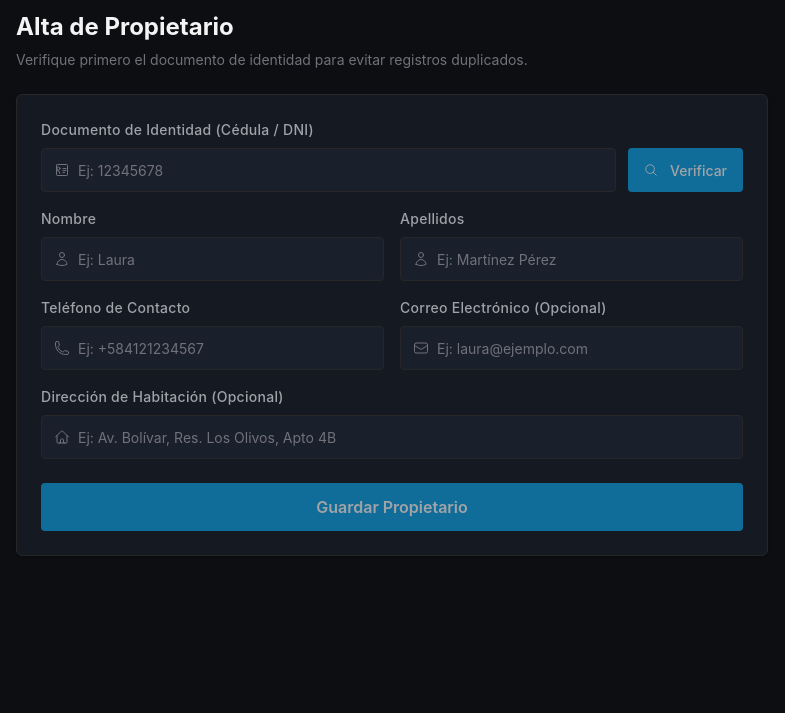
Test case: UI Integration: OwnerRegisterScreen (RF-68, RF-60, RNF-3) › debe alertar y bloquear registro duplicado si lookup responde exists true (sin filtrar datos personales)
Note: Ingresar documento
Type "12345678" into the field with placeholder "Ej: 12345678" at (341, 170), box [78,149,603,191]
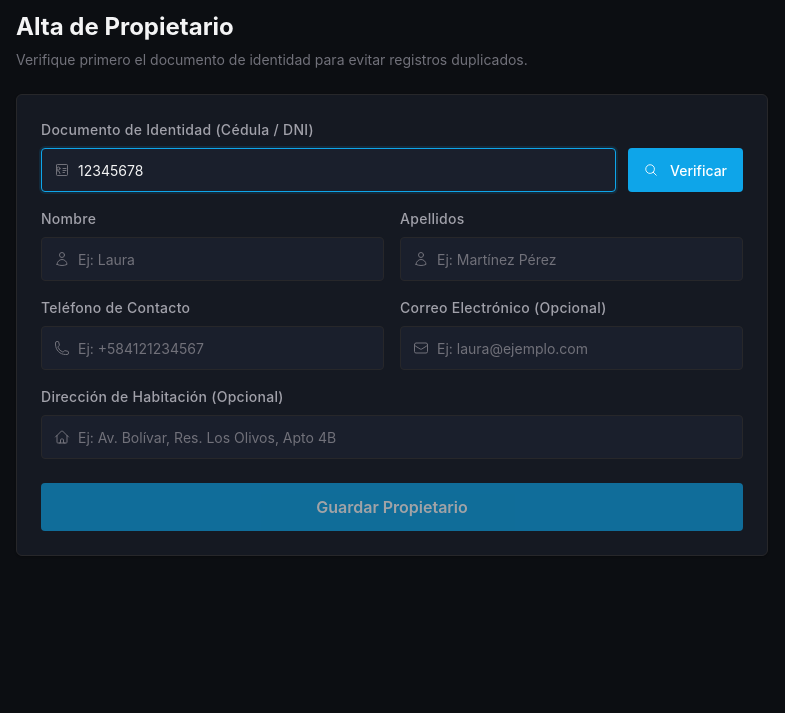
Note: Clic en botón Verificar
Click the button "Verificar" at (686, 170), box [628,148,743,192]
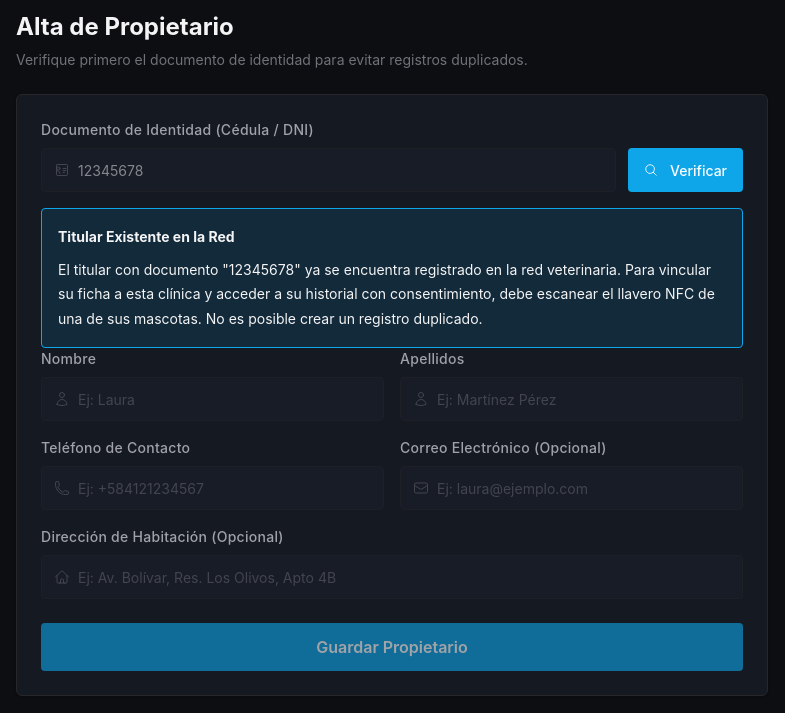
Expected: the button "Guardar Propietario" is disabled, [41,623,743,671]
Now the text "debe escanear el llavero nfc de una de sus mascotas" is shown, box [58,260,715,326]
